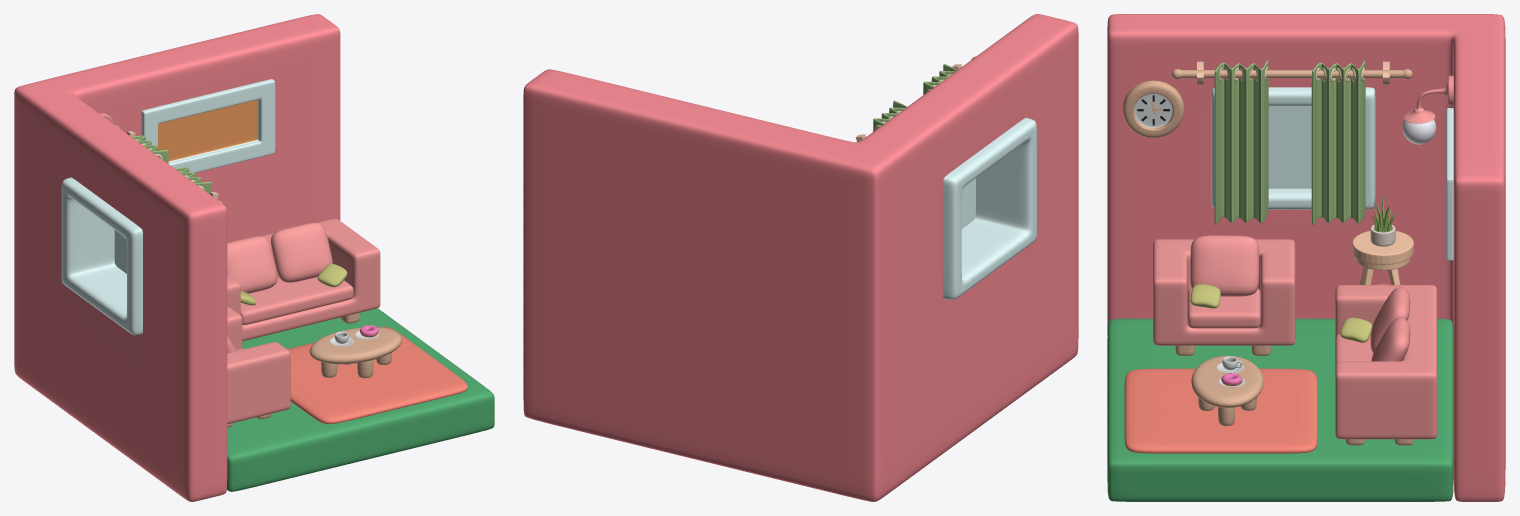
Rendered from pink isometric room.glb.
The picture shows the model from 3 angles, left to right: view 1: azimuth 30°, elevation 25°; view 2: azimuth 150°, elevation 25°; view 3: azimuth 270°, elevation 25°; orthographic projection. The views are drawn at different scales.
Visible parts, largest first — view 1: wall_0, floor_1, couch_4, window_7, frame_6, rug_2, couch.002_5, Circle_17, Cube_3, courton.001_11; view 2: wall_0, window_7, courton.001_11; view 3: wall_0, floor_1, courton.001_11, couch_4, couch.002_5, rug_2, window_7, Circle_17, watch_16, Cylinder_21, courton rod_9, Cube_3 (+6 smaller).
Part boxes in pixels (x1,y1,x2,y2): wall_0: [14, 14, 340, 501]; floor_1: [226, 308, 494, 491]; couch_4: [227, 218, 380, 341]; window_7: [61, 177, 142, 335]; frame_6: [141, 79, 275, 172]; rug_2: [287, 327, 467, 423]; couch.002_5: [227, 306, 290, 424]; Circle_17: [227, 312, 401, 427]; Cube_3: [240, 263, 347, 305]; courton.001_11: [131, 135, 211, 193]; wall_0: [523, 14, 1078, 501]; window_7: [943, 117, 1036, 299]; courton.001_11: [873, 64, 957, 131]; wall_0: [1107, 14, 1505, 501]; floor_1: [1107, 318, 1453, 501]; courton.001_11: [1214, 60, 1365, 224]; couch_4: [1335, 285, 1437, 439]; couch.002_5: [1153, 235, 1295, 345]; rug_2: [1124, 368, 1317, 453]; window_7: [1211, 87, 1375, 209]; Circle_17: [1175, 345, 1413, 445]; watch_16: [1123, 80, 1184, 137]; Cylinder_21: [1352, 231, 1413, 284]; courton rod_9: [1171, 69, 1412, 79]; Cube_3: [1190, 284, 1372, 342].
Bounding box in the file's own units: 3.62 × 3.15 × 3.51.
Materials: 27 (22 with a texture image).
